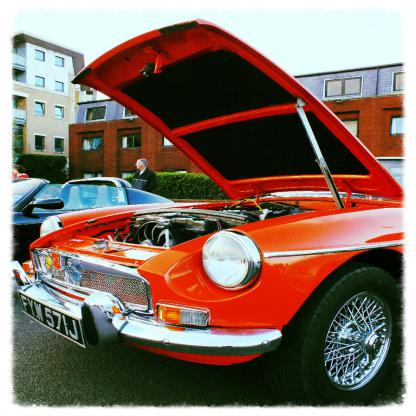Car: (16, 19, 406, 406)
